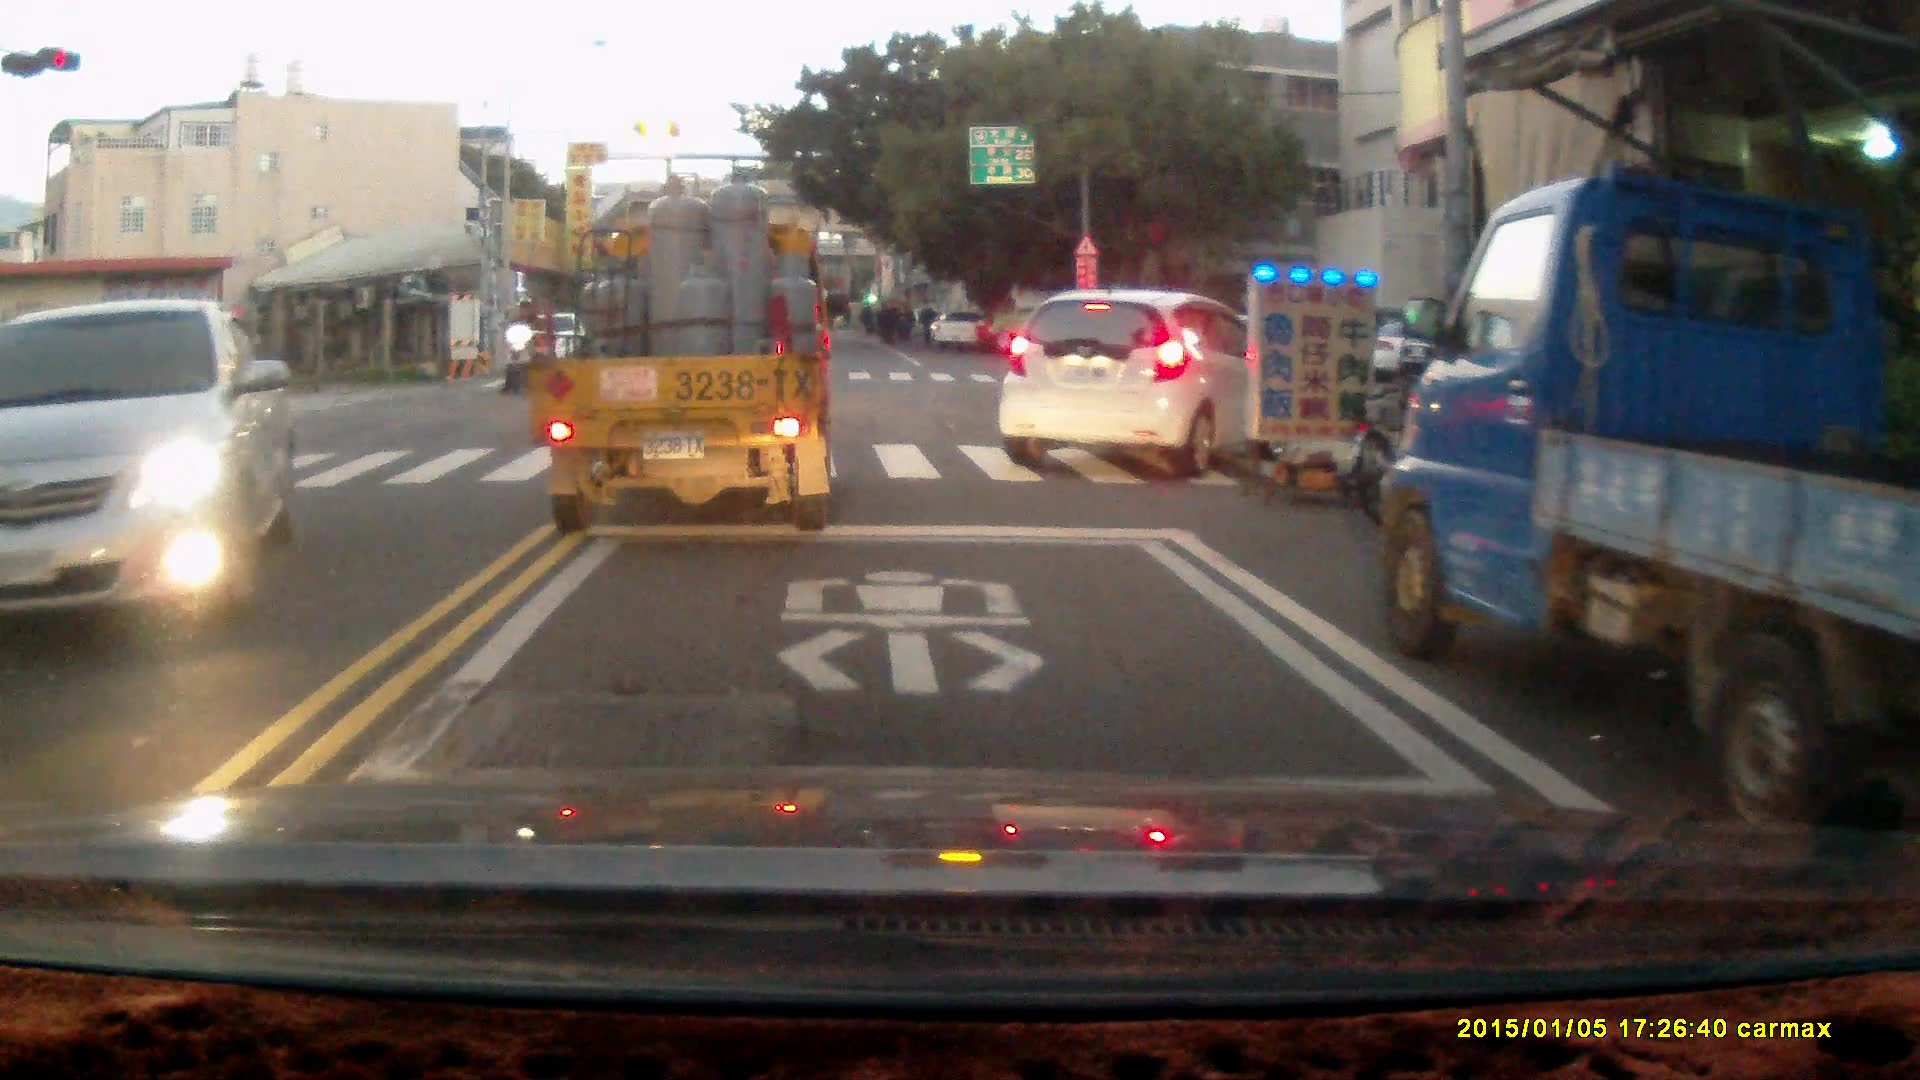rider: (500, 298, 550, 394)
vehicle: (1369, 178, 1920, 813), (518, 167, 836, 537), (1, 297, 294, 635), (996, 287, 1267, 470)
